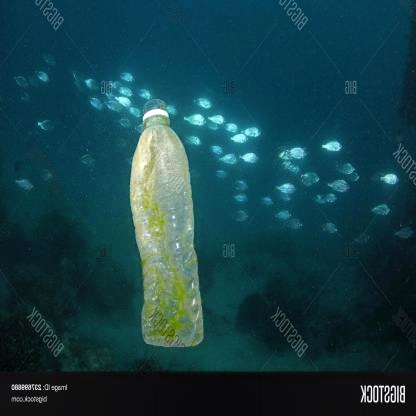pbottle: (116, 92, 214, 350)
